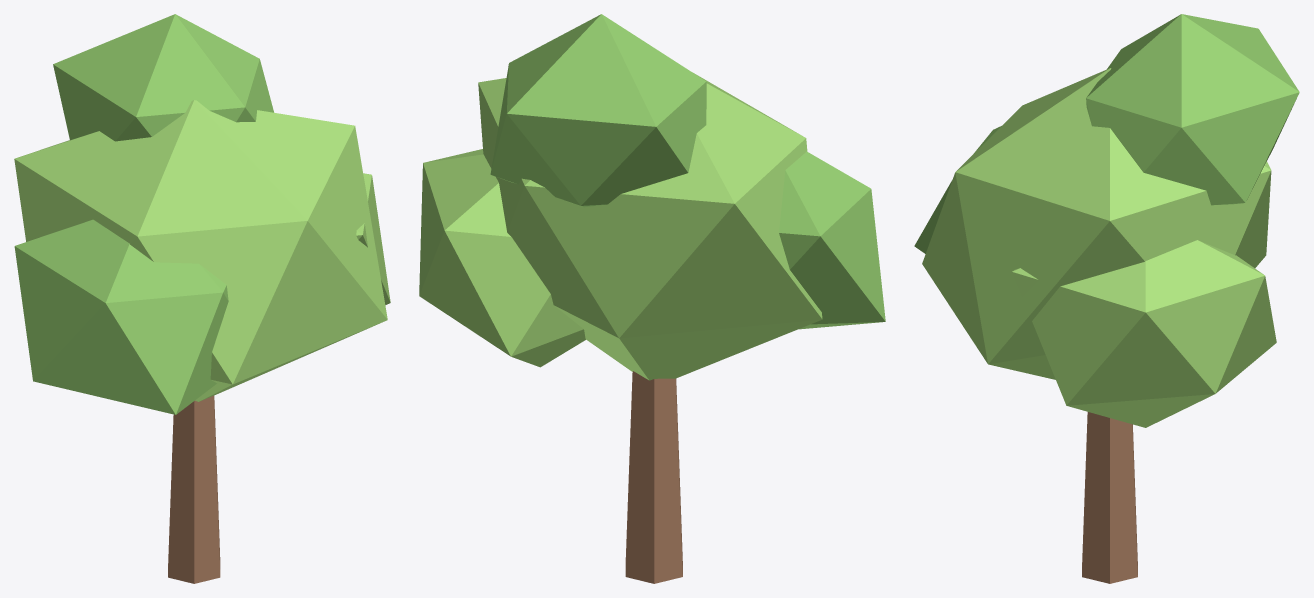
The model's file is tree-round-1.glb.
The picture shows the model from 3 angles, left to right: view 1: azimuth 30°, elevation 25°; view 2: azimuth 150°, elevation 25°; view 3: azimuth 270°, elevation 25°; orthographic projection. The views are drawn at different scales.
Visible parts, largest first — view 1: tree-round-1-leaf2, tree-round-1-leaf1, tree-round-1-bark; view 2: tree-round-1-leaf2, tree-round-1-leaf1, tree-round-1-bark; view 3: tree-round-1-leaf2, tree-round-1-leaf1, tree-round-1-bark.
Boxes of the visible parts, box(x1,y1,x2,y2) form: tree-round-1-leaf2: box(14, 100, 390, 401); tree-round-1-leaf1: box(14, 14, 273, 414); tree-round-1-bark: box(168, 395, 220, 583); tree-round-1-leaf2: box(419, 73, 822, 380); tree-round-1-leaf1: box(490, 14, 885, 329); tree-round-1-bark: box(625, 371, 682, 583); tree-round-1-leaf2: box(922, 68, 1276, 427); tree-round-1-leaf1: box(914, 14, 1299, 253); tree-round-1-bark: box(1082, 412, 1137, 583).
Size of the model in its own units: 2.62 by 3.48 by 2.15.
